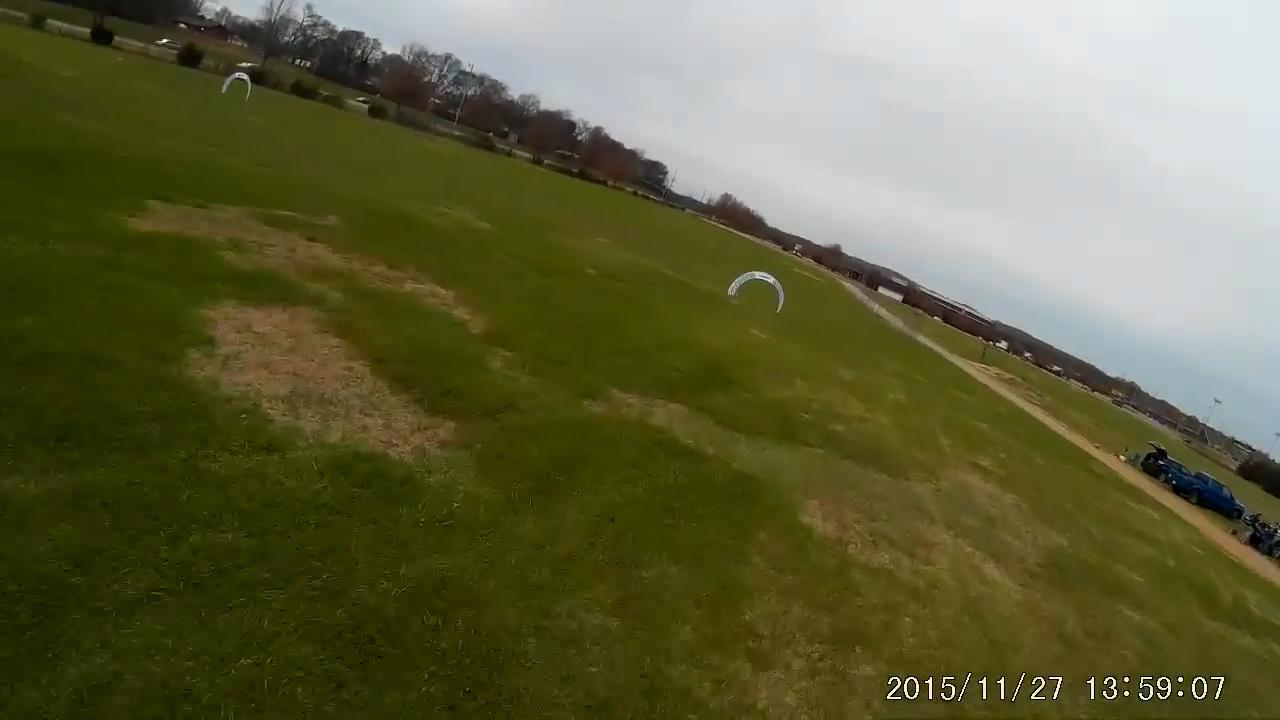gate: (728, 268, 785, 317)
